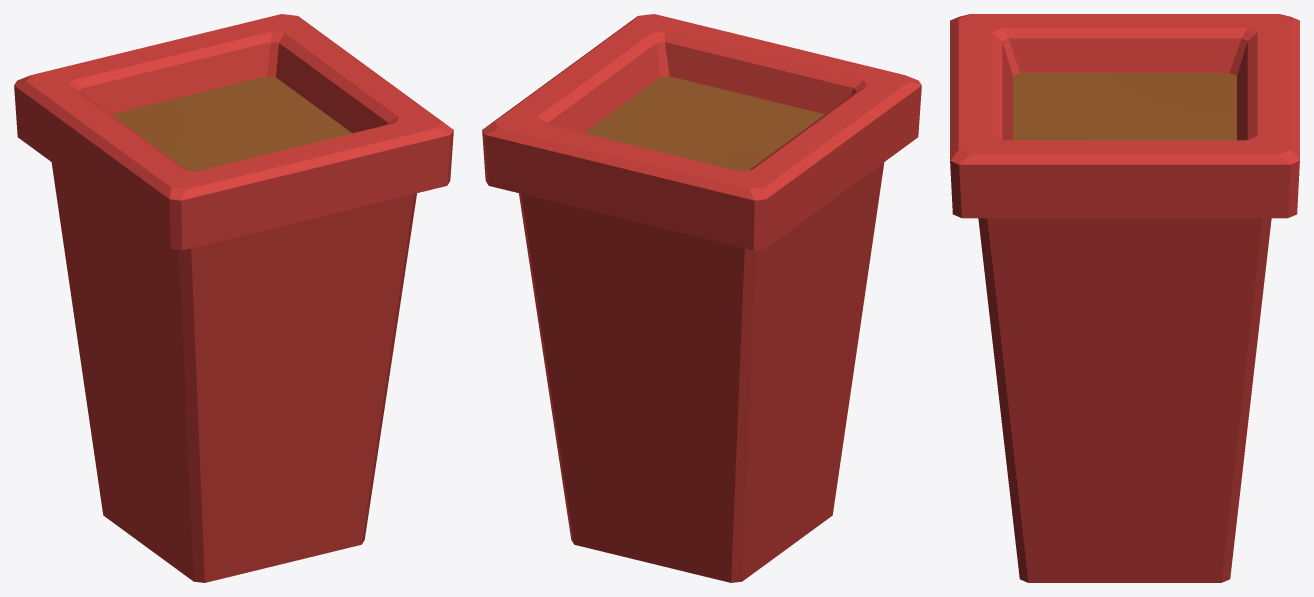
The model's file is PlantPot_2_F.glb.
3 views of the same model, side by side, from view 1: azimuth 30°, elevation 25°; view 2: azimuth 150°, elevation 25°; view 3: azimuth 270°, elevation 25° (orthographic). The views are drawn at different scales.
Parts seen in each view (by area): view 1: PlantPot_2_F; view 2: PlantPot_2_F; view 3: PlantPot_2_F.
Boxes of the visible parts, left/top/right/bottom form: PlantPot_2_F: left=14, top=14, right=453, bottom=582; PlantPot_2_F: left=482, top=14, right=921, bottom=582; PlantPot_2_F: left=950, top=14, right=1299, bottom=582.
Bounding box in the file's own units: 0.3624 × 0.5192 × 0.3624.
1 material, 1 textured.
